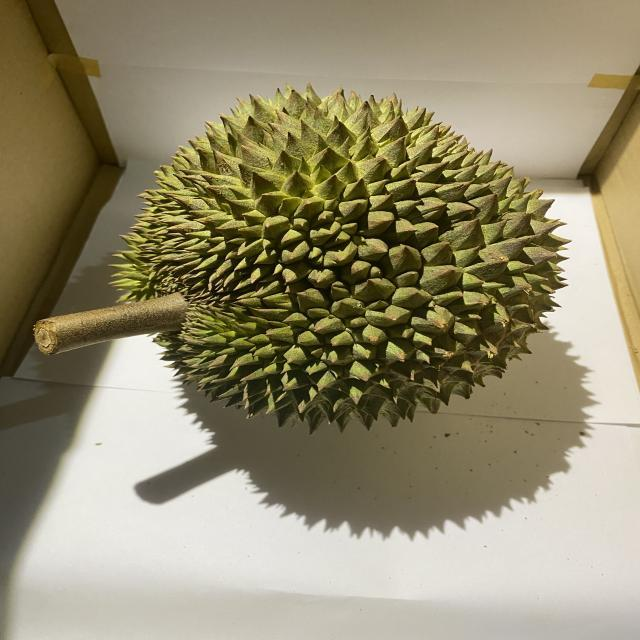immature: (107, 84, 575, 435)
